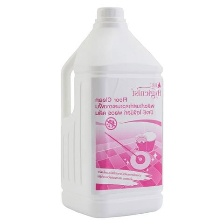cleaning_solution: (56, 3, 165, 221)
